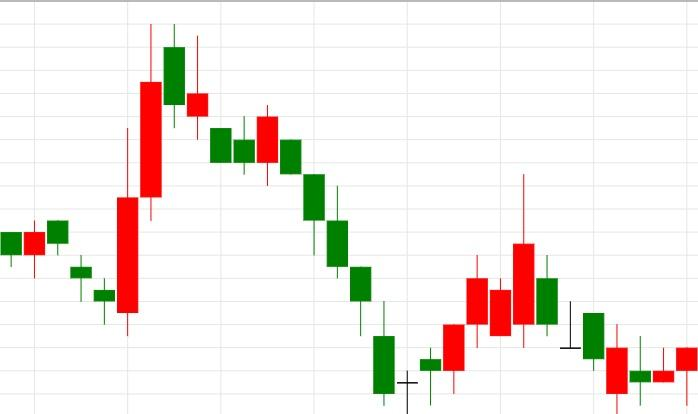bullish_engulfing_rise: (48, 128, 138, 336)
